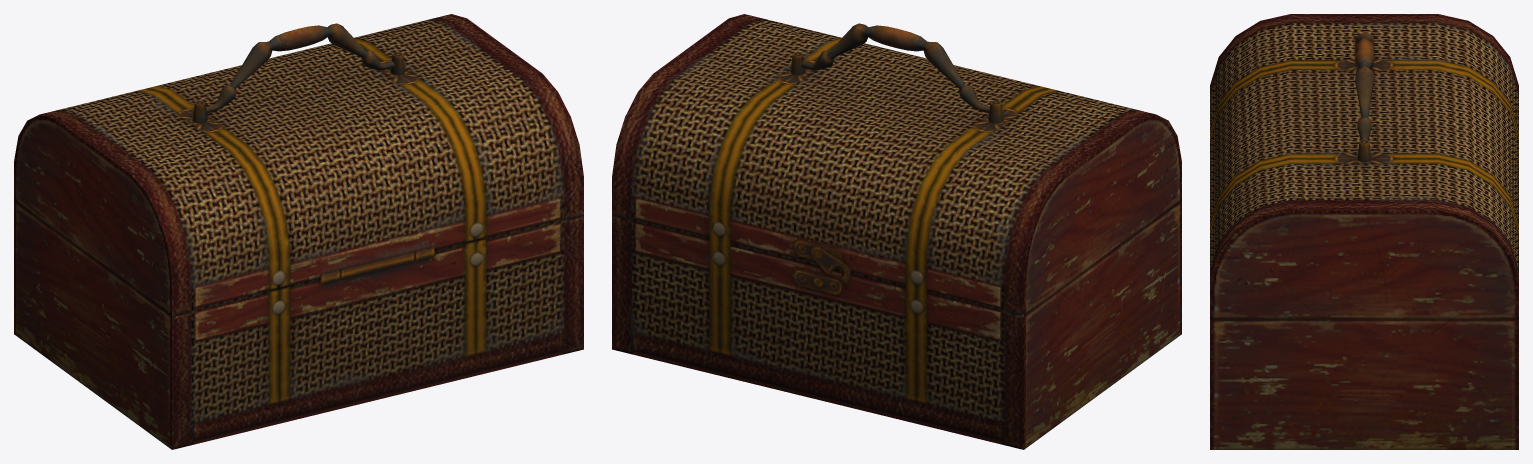
The model's file is MerchantShip_Storagebox_05.FBX.
3 renders of one model, left to right at view 1: azimuth 30°, elevation 25°; view 2: azimuth 150°, elevation 25°; view 3: azimuth 270°, elevation 25°, orthographic. The views are drawn at different scales.
Visible parts, largest first — view 1: SM_MerchantShip_Storagebox_05; view 2: SM_MerchantShip_Storagebox_05; view 3: SM_MerchantShip_Storagebox_05.
Boxes of the visible parts, left/top/right/bottom form: SM_MerchantShip_Storagebox_05: left=14, top=14, right=583, bottom=449; SM_MerchantShip_Storagebox_05: left=612, top=14, right=1181, bottom=449; SM_MerchantShip_Storagebox_05: left=1210, top=14, right=1518, bottom=449.
Size of what is drawn, in the model's own units: 20.53 by 13.65 by 14.92.
